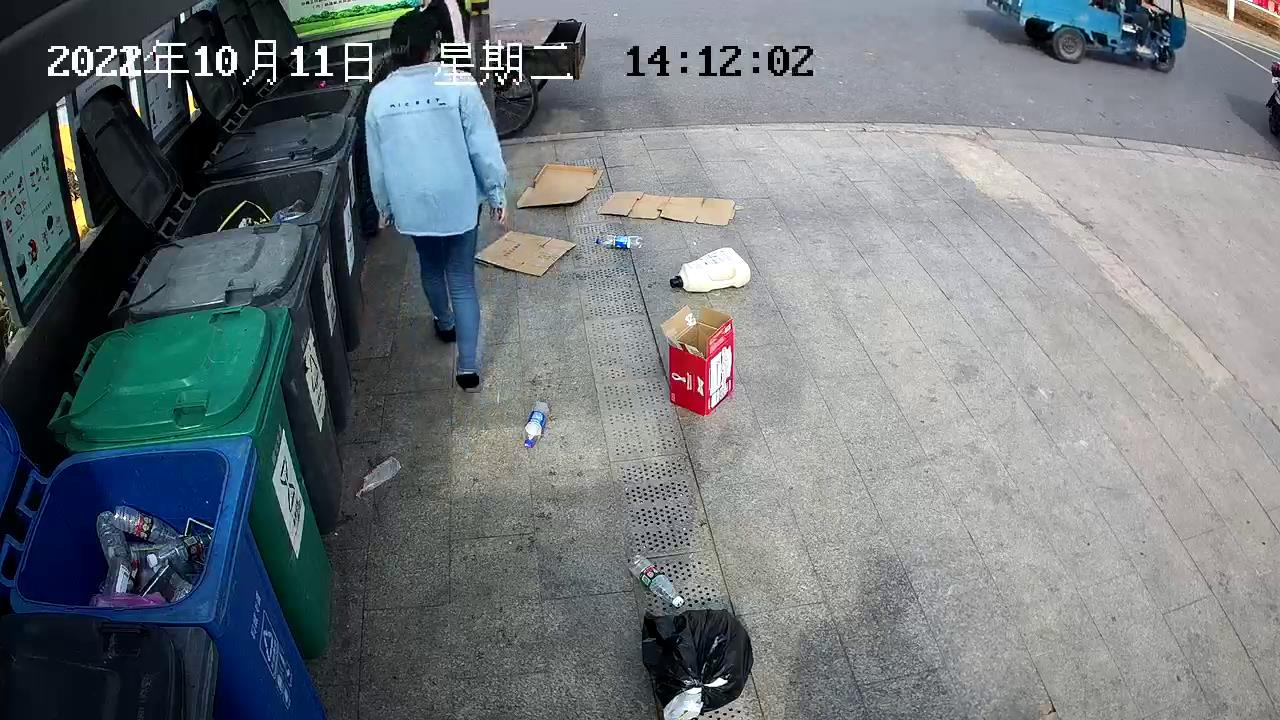garbage-bag: (638, 605, 756, 720)
suliaozhipin: (669, 245, 752, 292), (623, 551, 686, 610), (352, 452, 404, 499), (519, 399, 550, 451), (593, 231, 647, 251)
worker: (362, 10, 511, 395)
zhizhipin: (657, 302, 739, 416), (596, 188, 738, 231), (473, 229, 579, 277), (515, 160, 606, 210)
